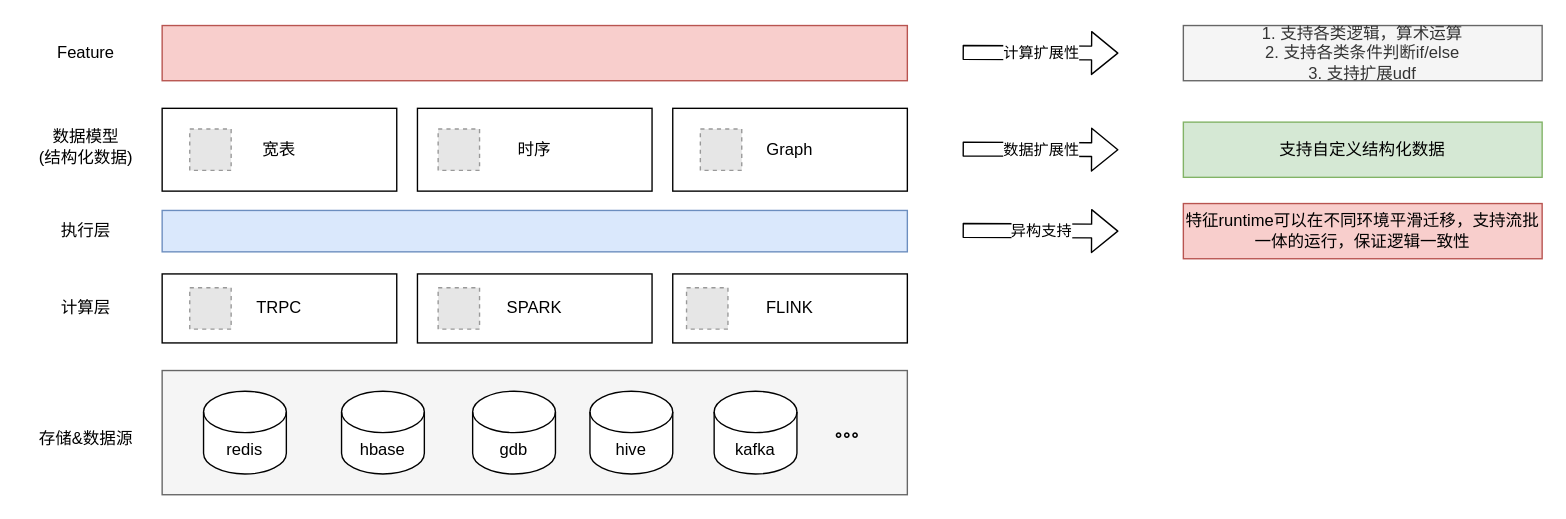
Some shapes in this 1566 by 519 pixel diagram are drawn without their labels. Grey dashed boxes stand in for pictures. Each missing label, with the centre of its shape:
"Feature DSL" goes at [534,52].
"异构执行引擎" goes at [534,230].
